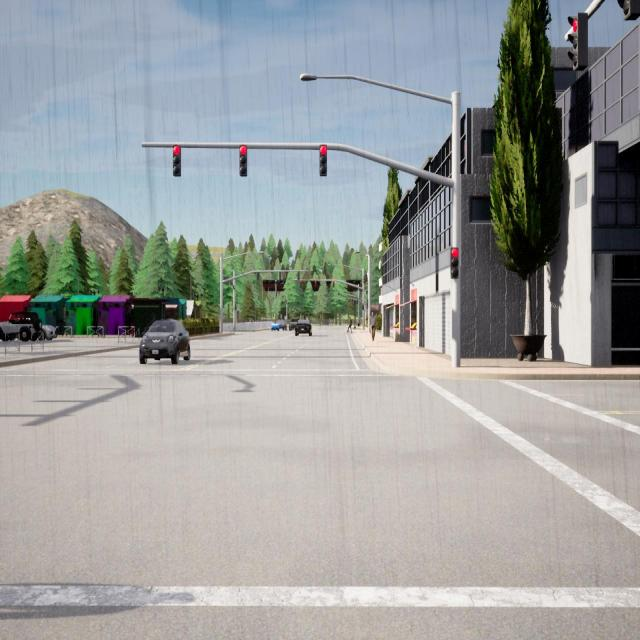Pedestrian: (369, 311, 376, 341), (347, 316, 353, 333)
Vehicle: (139, 319, 191, 364), (0, 311, 42, 342), (295, 319, 312, 337), (42, 324, 60, 341), (275, 318, 287, 331), (289, 317, 299, 331), (271, 324, 280, 331)
traffic_light: (568, 13, 588, 71), (617, 0, 640, 20), (172, 145, 182, 177), (239, 146, 248, 177), (319, 144, 327, 176), (451, 248, 458, 279), (258, 272, 260, 280), (298, 272, 300, 280), (300, 280, 302, 287), (315, 280, 317, 287), (362, 304, 364, 310), (235, 304, 237, 310), (364, 276, 365, 284), (338, 298, 340, 302), (338, 292, 340, 296), (280, 272, 281, 280), (366, 274, 367, 282), (333, 281, 334, 287), (331, 298, 332, 302), (349, 298, 350, 302)
